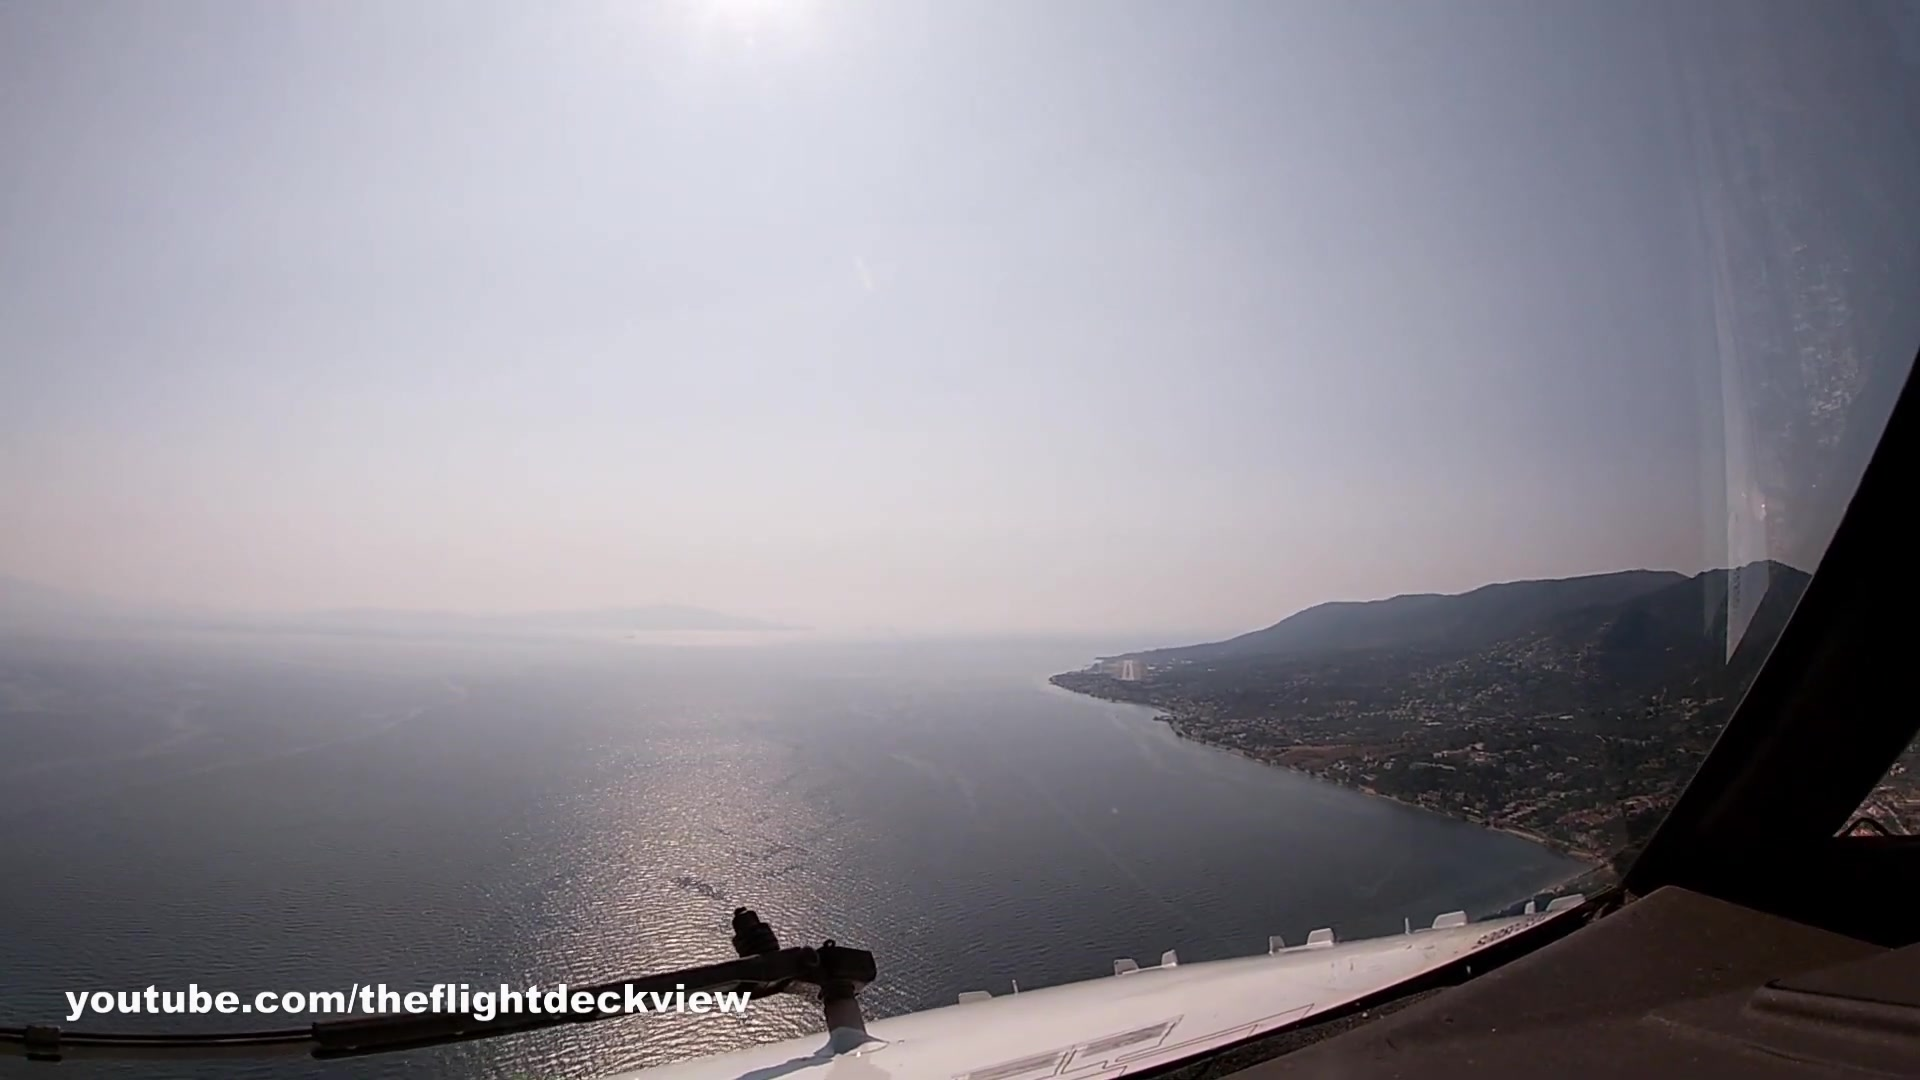runway: (1120, 658, 1135, 683)
